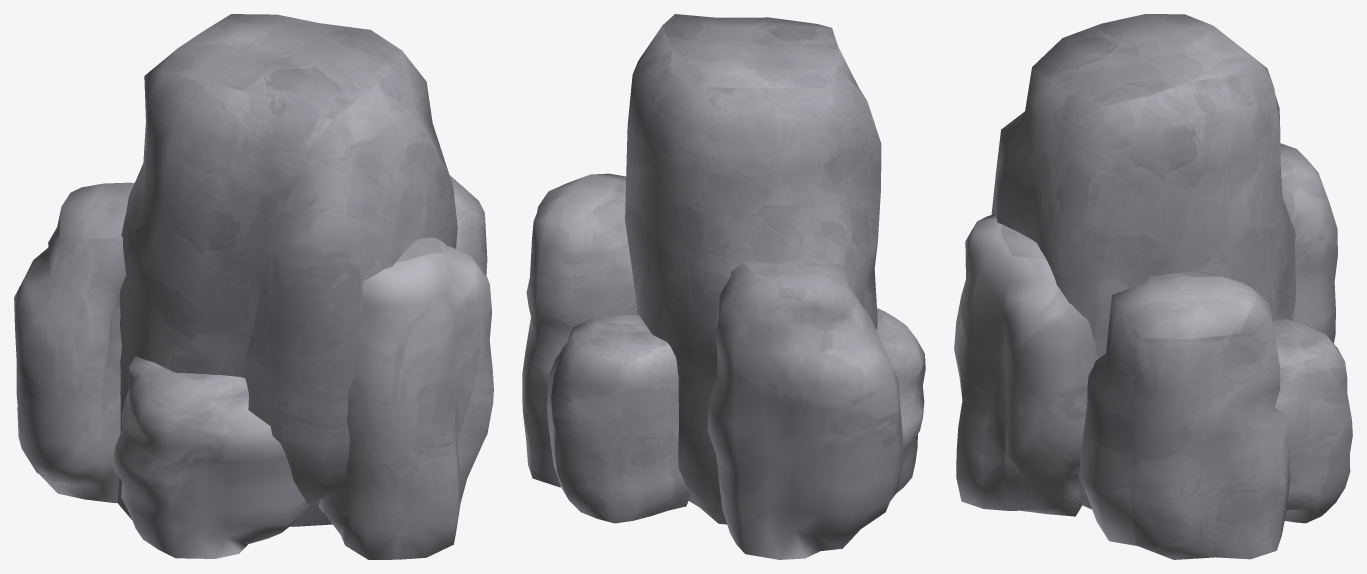
File: Rock_Formation_1.fbx
3 renders of one model, left to right at view 1: azimuth 30°, elevation 25°; view 2: azimuth 150°, elevation 25°; view 3: azimuth 270°, elevation 25°, orthographic. The views are drawn at different scales.
Visible parts, largest first — view 1: Rock_Formation_1; view 2: Rock_Formation_1; view 3: Rock_Formation_1.
Part boxes in pixels (x1,y1,x2,y2): Rock_Formation_1: (14, 14, 493, 559); Rock_Formation_1: (522, 14, 925, 559); Rock_Formation_1: (954, 14, 1352, 559).
Size of the model in its own units: 11.41 by 11.7 by 10.
